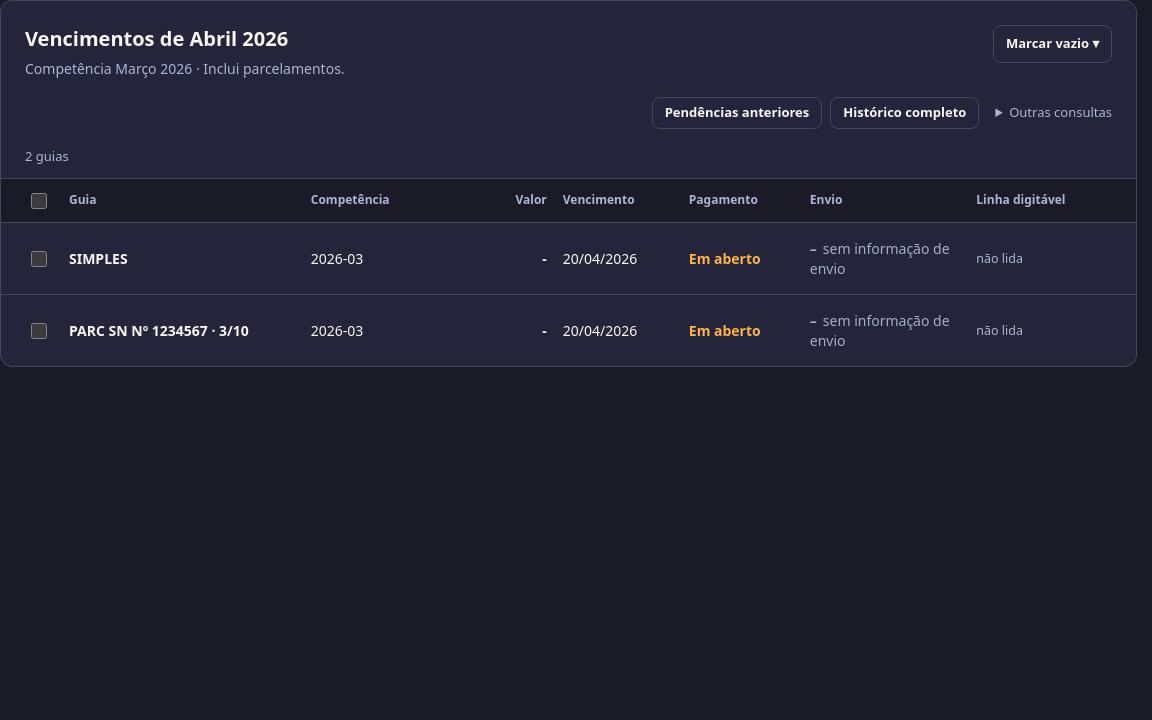
correção de competência abre apenas para uma guia selecionada
expect the button "Corrigir competência" is not shown: met
Click the checkbox named "Selecionar guia" at [39, 259], box top-left (31, 251), bottom-right (47, 267)
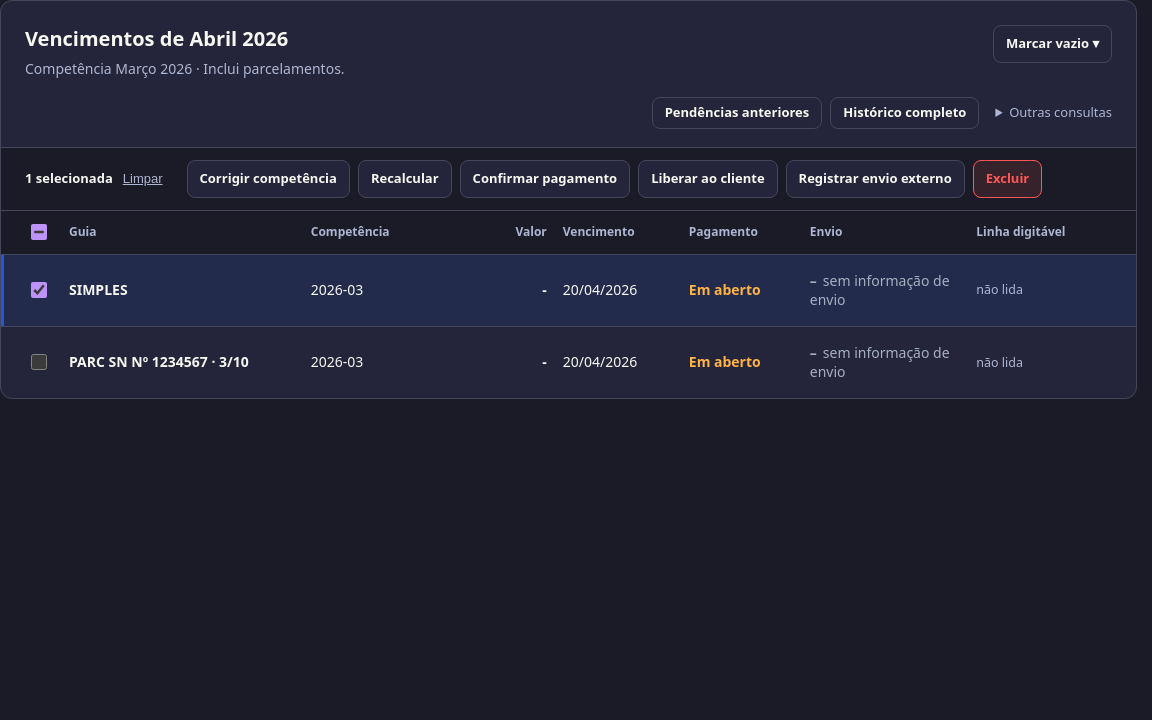
Click the button "Corrigir competência" at [268, 178], box top-left (186, 160), bottom-right (350, 198)
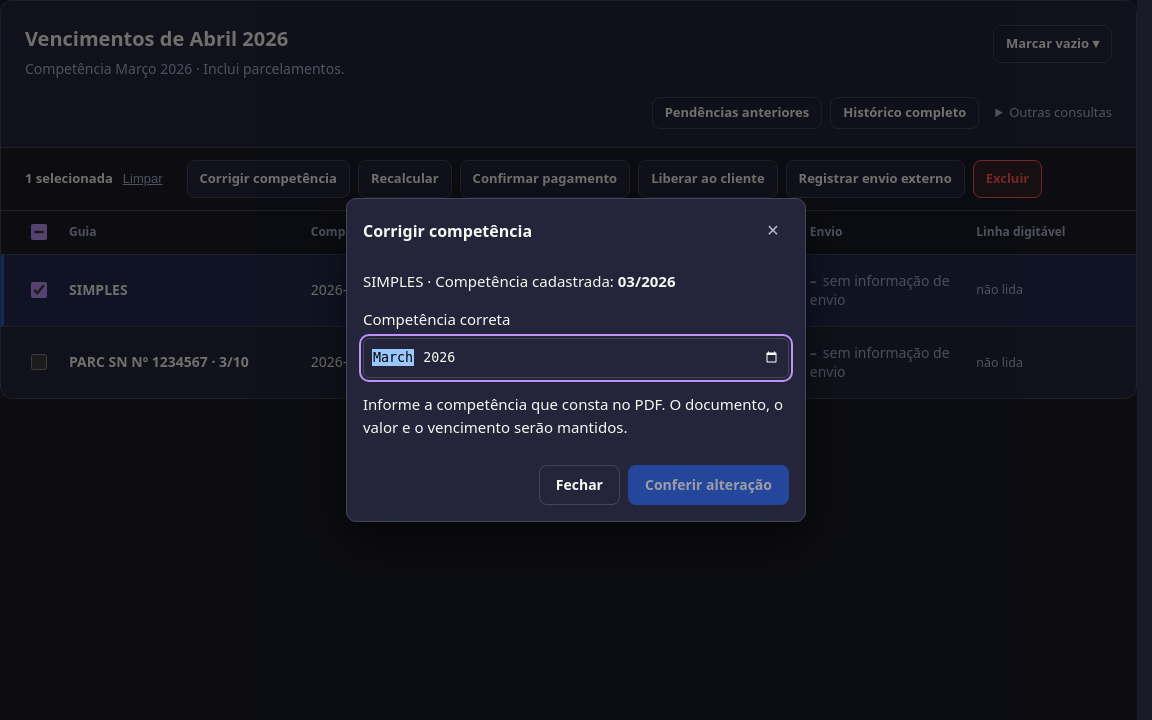
expect the dialog "Corrigir competência" is shown: met
Click the button "Fechar" at [579, 485], box top-left (539, 465), bottom-right (620, 505)
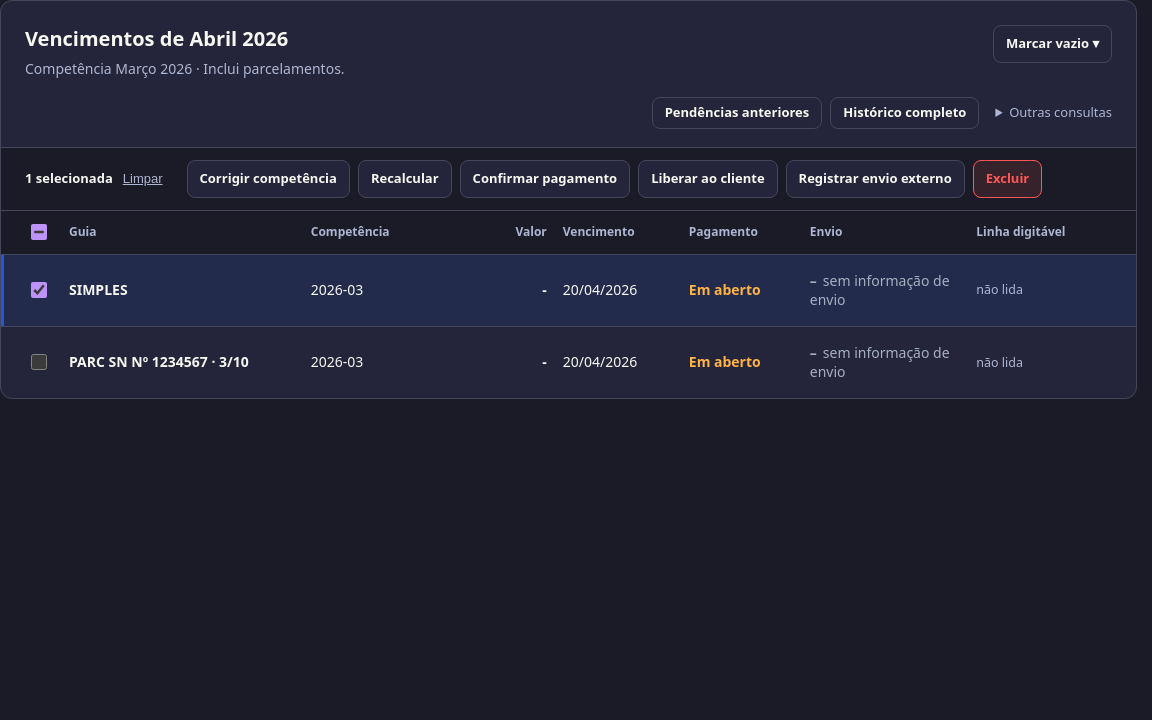
Click the checkbox named "Selecionar guia" at [39, 362], box top-left (31, 354), bottom-right (47, 370)
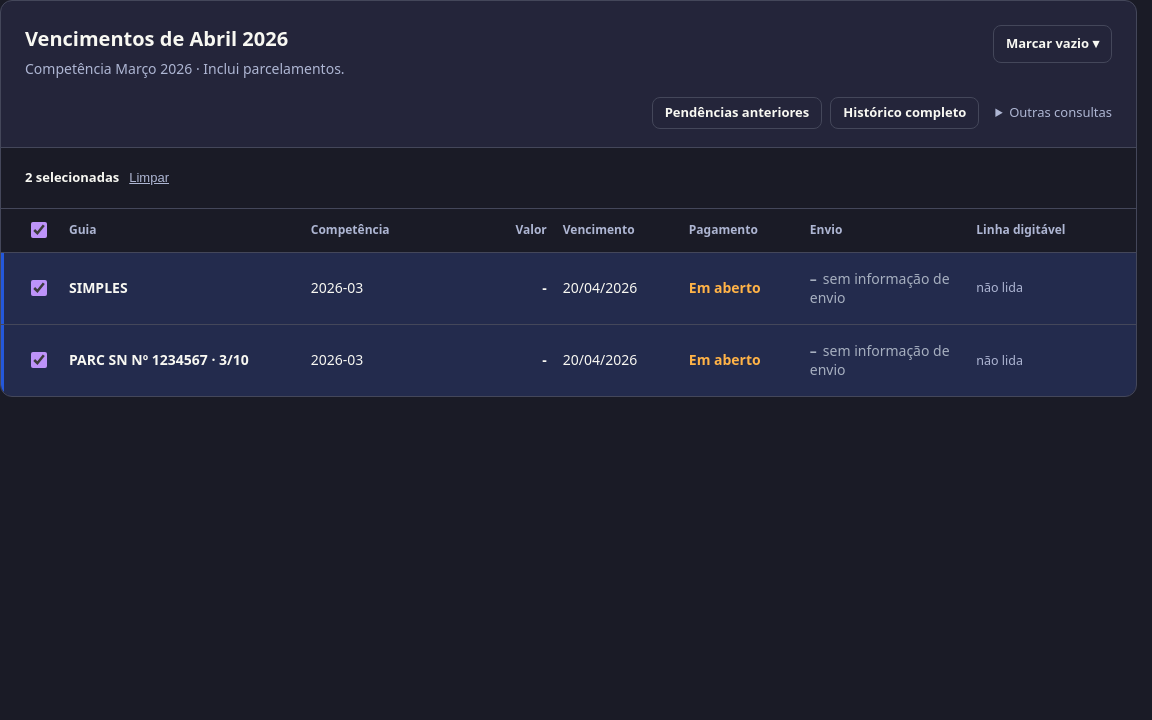
expect the button "Corrigir competência" is gone: met
